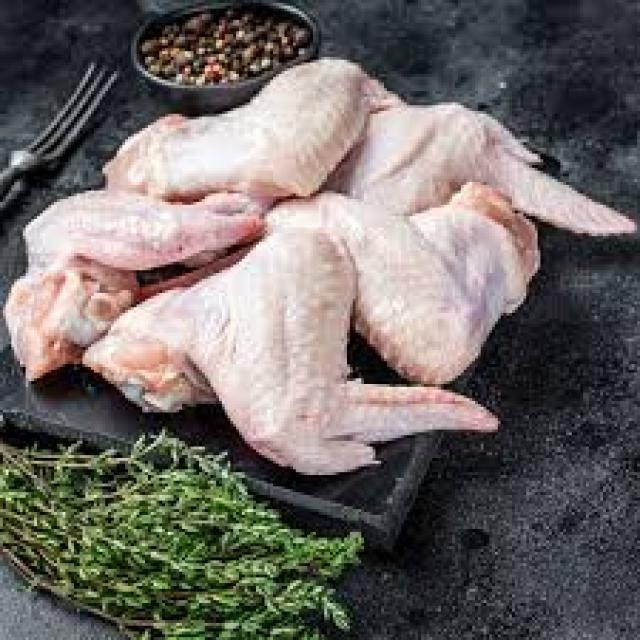wing: (106, 223, 462, 474), (277, 186, 549, 375), (0, 175, 246, 352), (344, 114, 630, 259), (113, 69, 394, 191)
